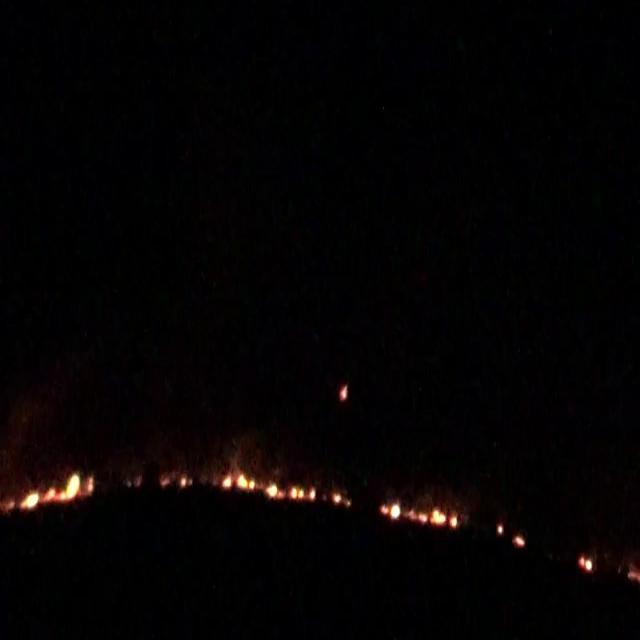Fire: (225, 472, 349, 508), (5, 463, 94, 513), (379, 501, 460, 529), (162, 475, 190, 489), (339, 383, 349, 402), (580, 554, 590, 572), (515, 537, 524, 547)
